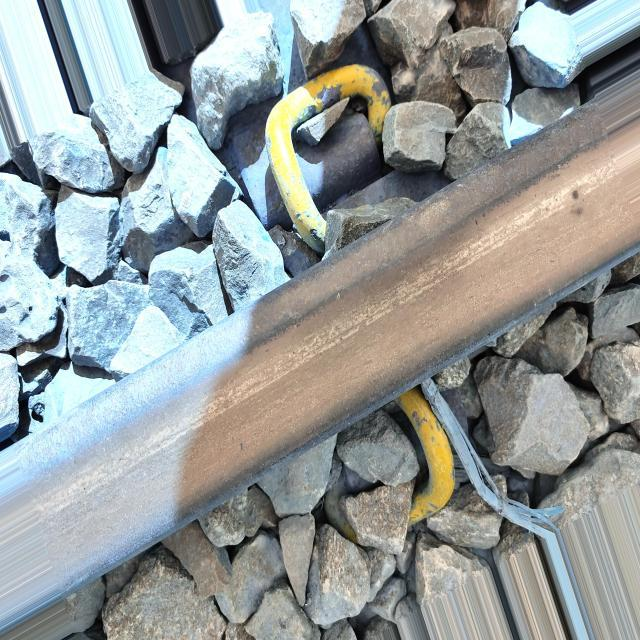Good Fasteners: (218, 65, 440, 278), (396, 388, 454, 525)
